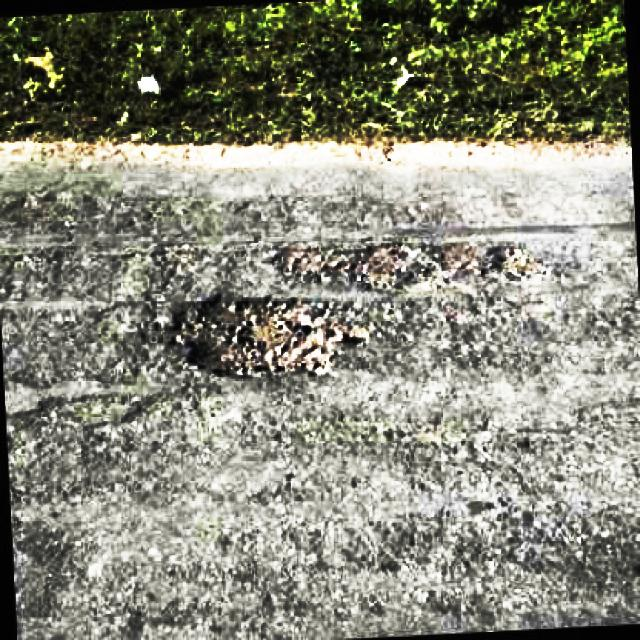pothole: (155, 292, 363, 378), (272, 242, 532, 290)
